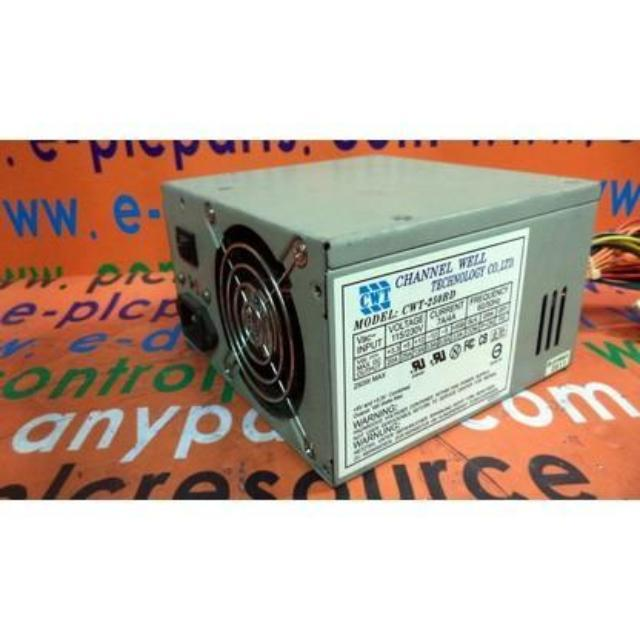PSU: (150, 137, 602, 495)
